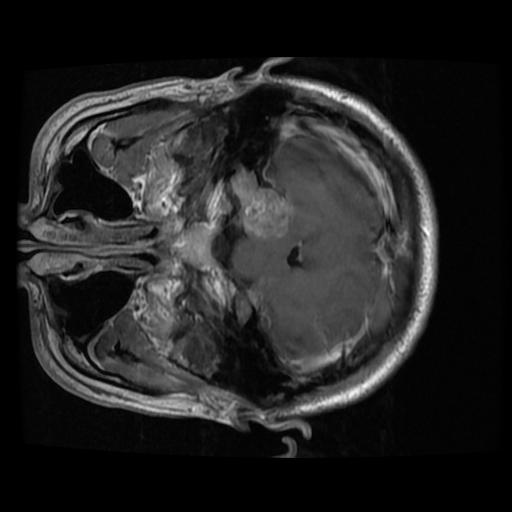meningioma: (229, 166, 285, 237)
